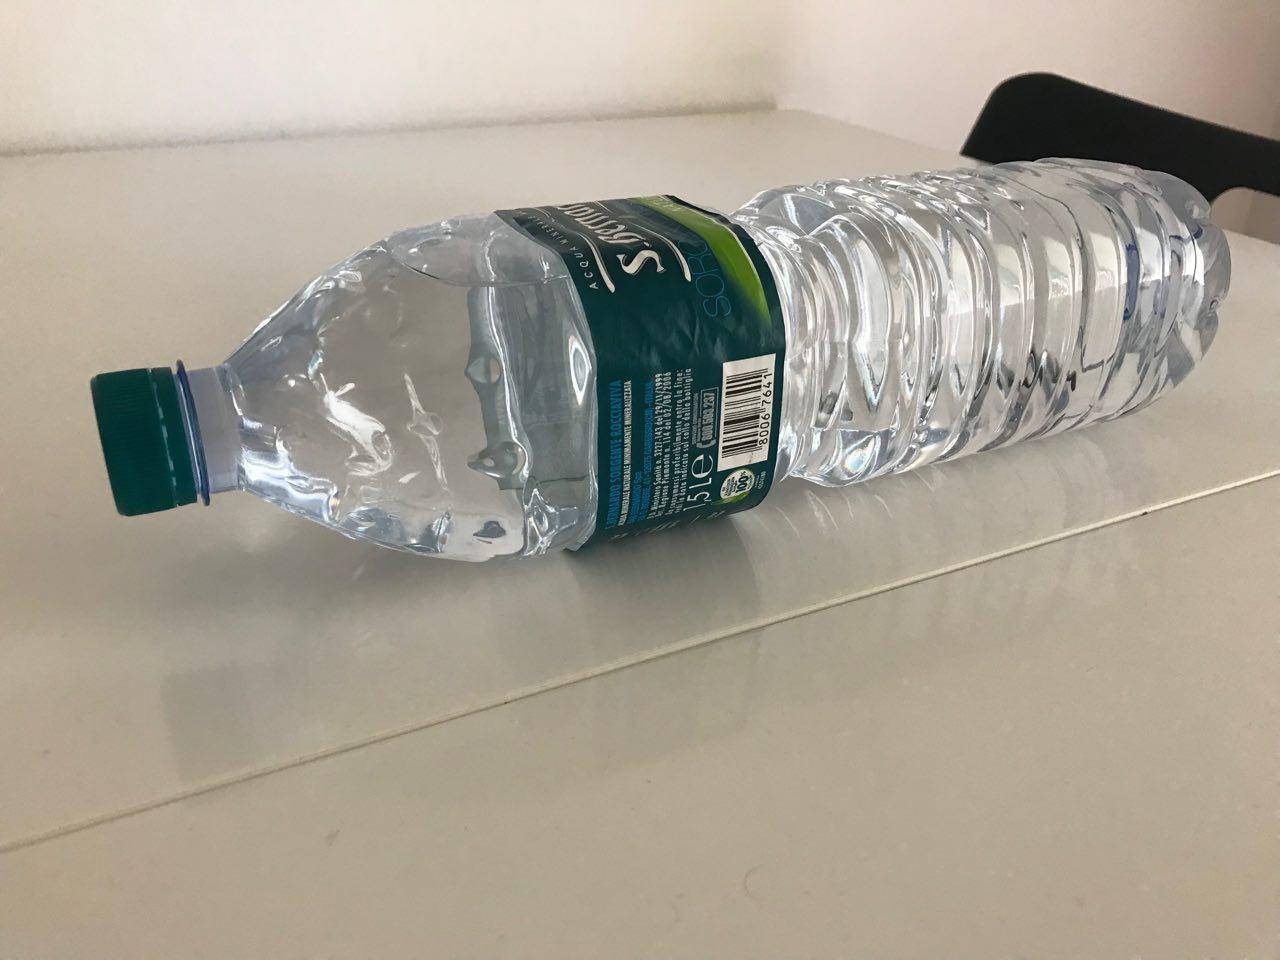san_bernardo: (88, 152, 1232, 564)
